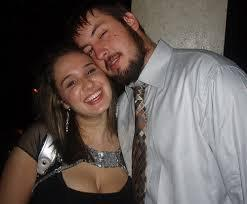Drunk: (75, 11, 137, 74), (53, 51, 109, 112)
